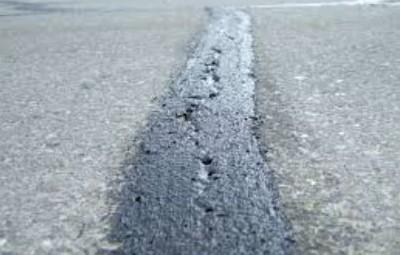crack: (173, 48, 242, 246)
